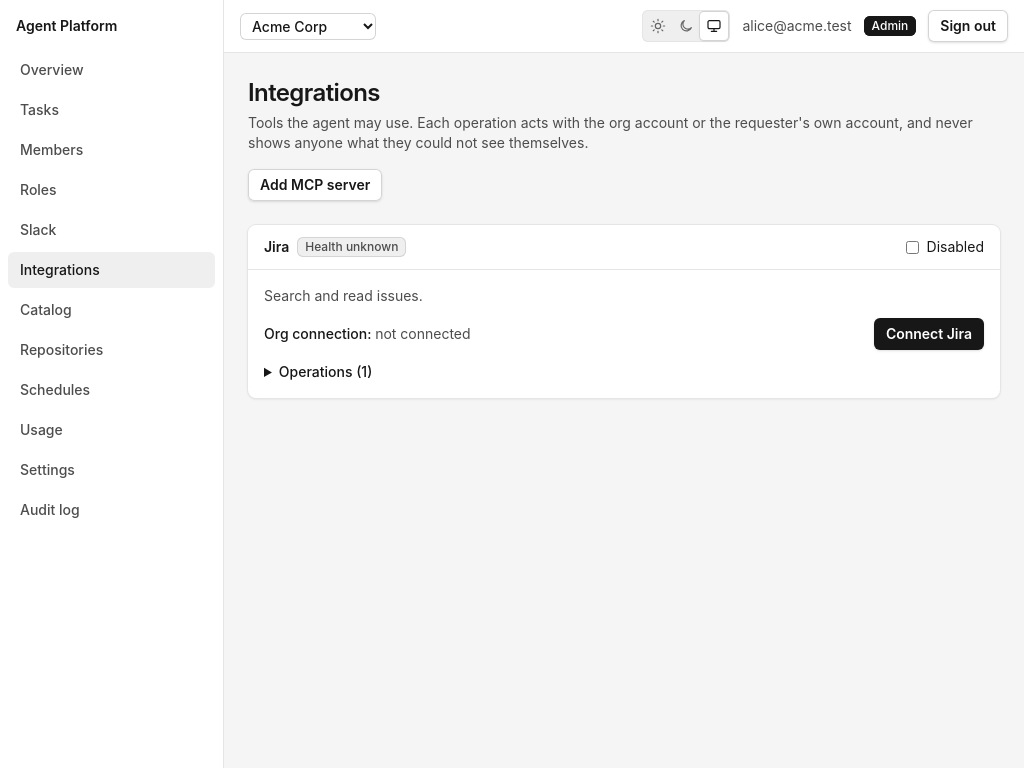
Test: Integrations page › shows an API error when enabling is refused
What coordinates should you click on to do the following:
click the checkbox named "Enable Jira"
I would click on:
 (912, 247)
Its box is left=906, top=240, right=918, bottom=254.
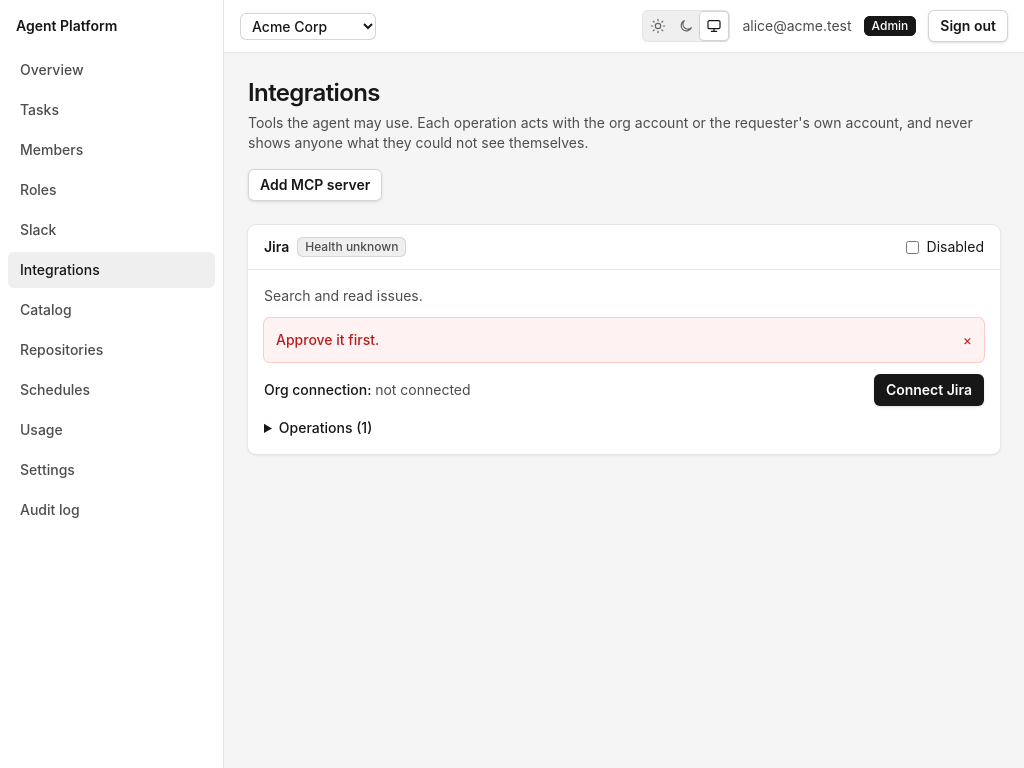
Expected: the text "Approve it first." is shown, left=276, top=330, right=379, bottom=350
